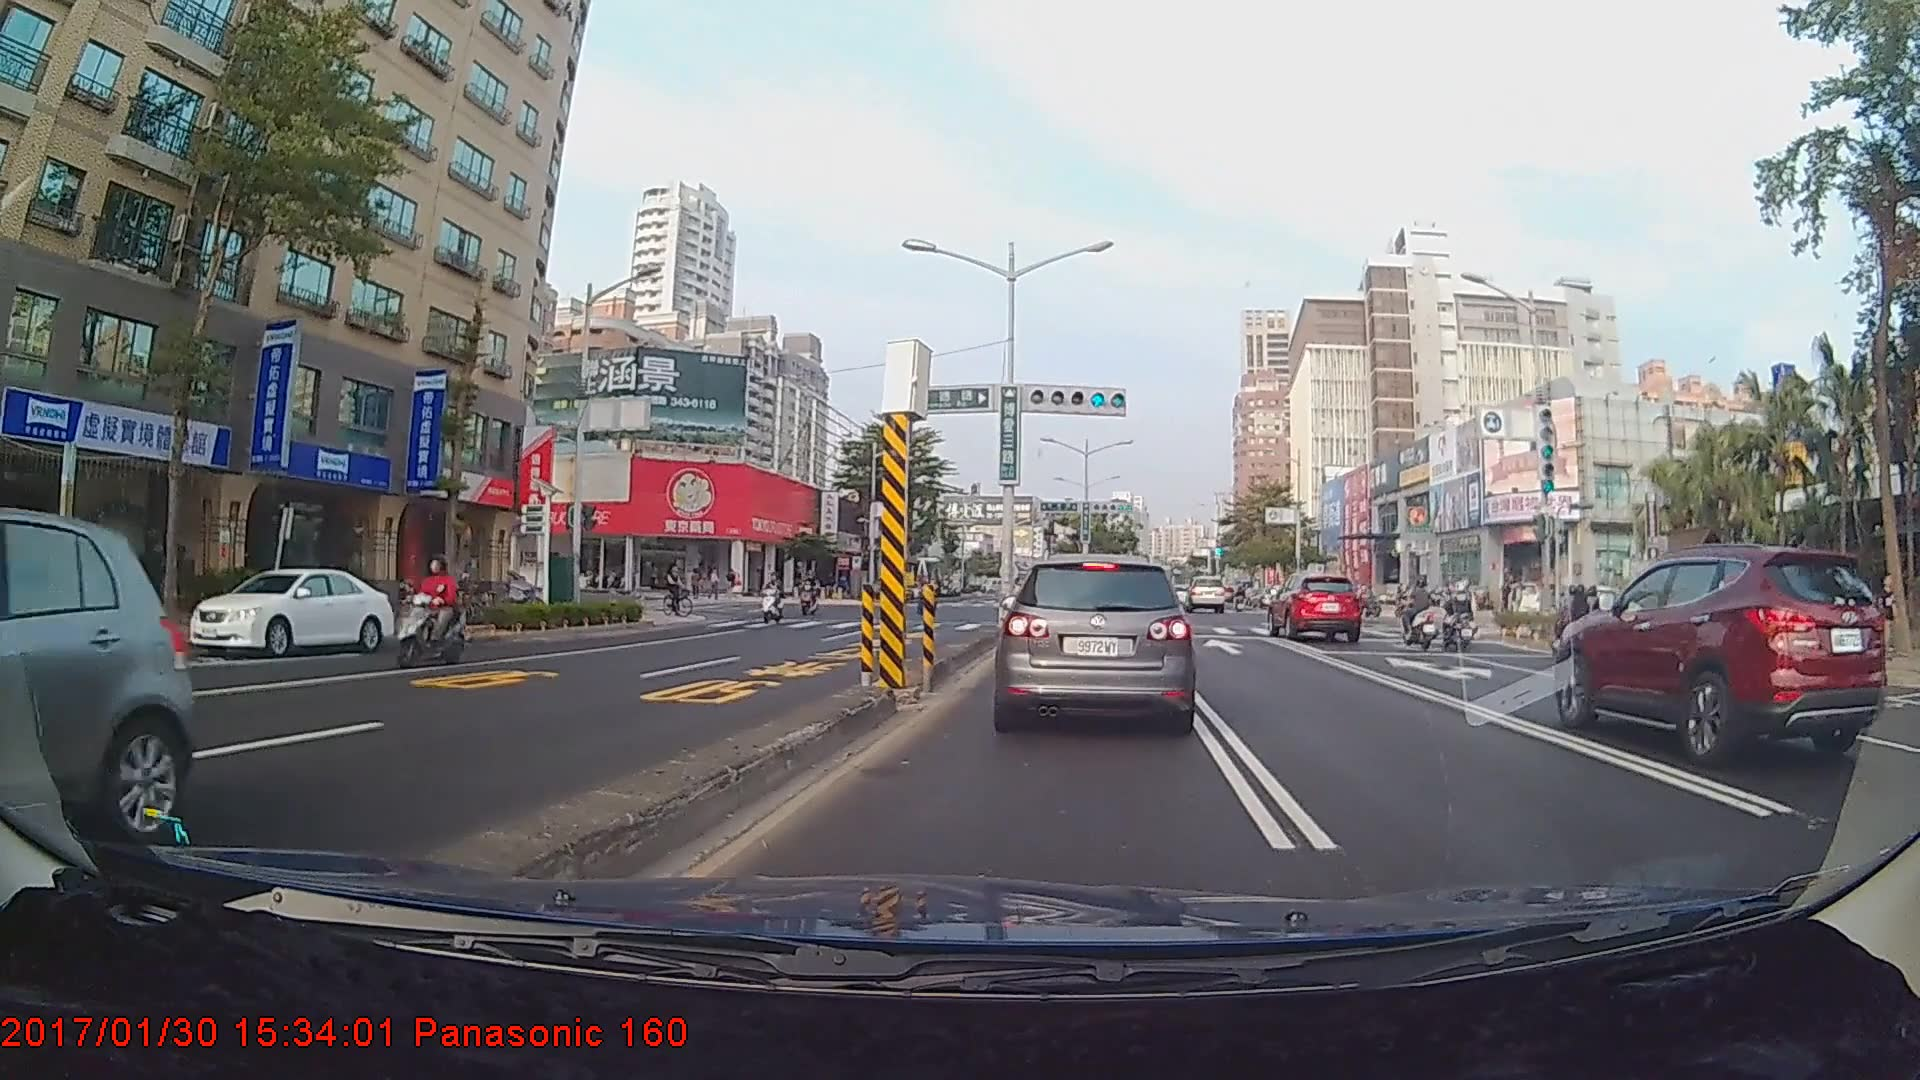pedestrian: (1877, 572, 1901, 665), (1846, 581, 1870, 650)
rider: (392, 552, 471, 674), (1393, 581, 1448, 656), (1434, 583, 1483, 653), (655, 563, 696, 624), (758, 574, 794, 630)
vehicle: (1551, 545, 1889, 766), (0, 503, 198, 879), (998, 550, 1195, 729), (187, 566, 394, 657), (1267, 569, 1364, 642), (1185, 574, 1227, 614)
